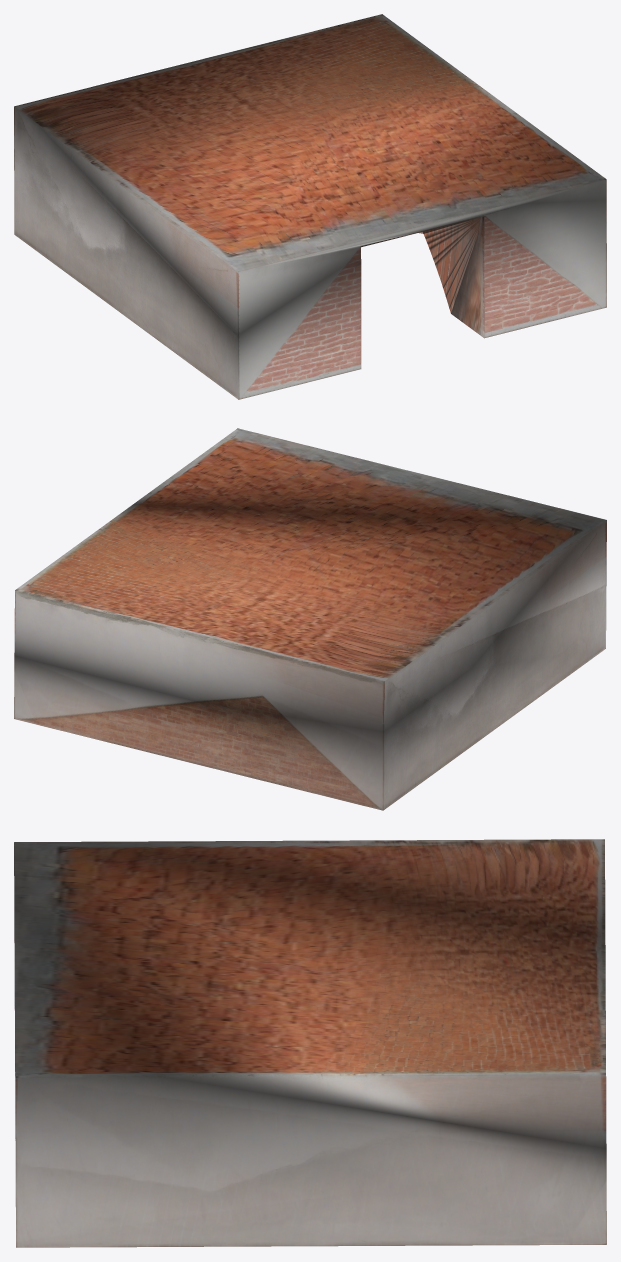
File: home_002.obj
3 views of the same model, one above another, from view 1: azimuth 30°, elevation 25°; view 2: azimuth 150°, elevation 25°; view 3: azimuth 270°, elevation 25° (orthographic). The views are drawn at different scales.
Visible parts, largest first — view 1: model; view 2: model; view 3: model.
Boxes of the visible parts, x1,y1,x2,y2 form: model: (14,14,606,399); model: (14,428,606,810); model: (14,839,606,1247).
Bounding box in the file's own units: 1.91 × 0.6517 × 2.
